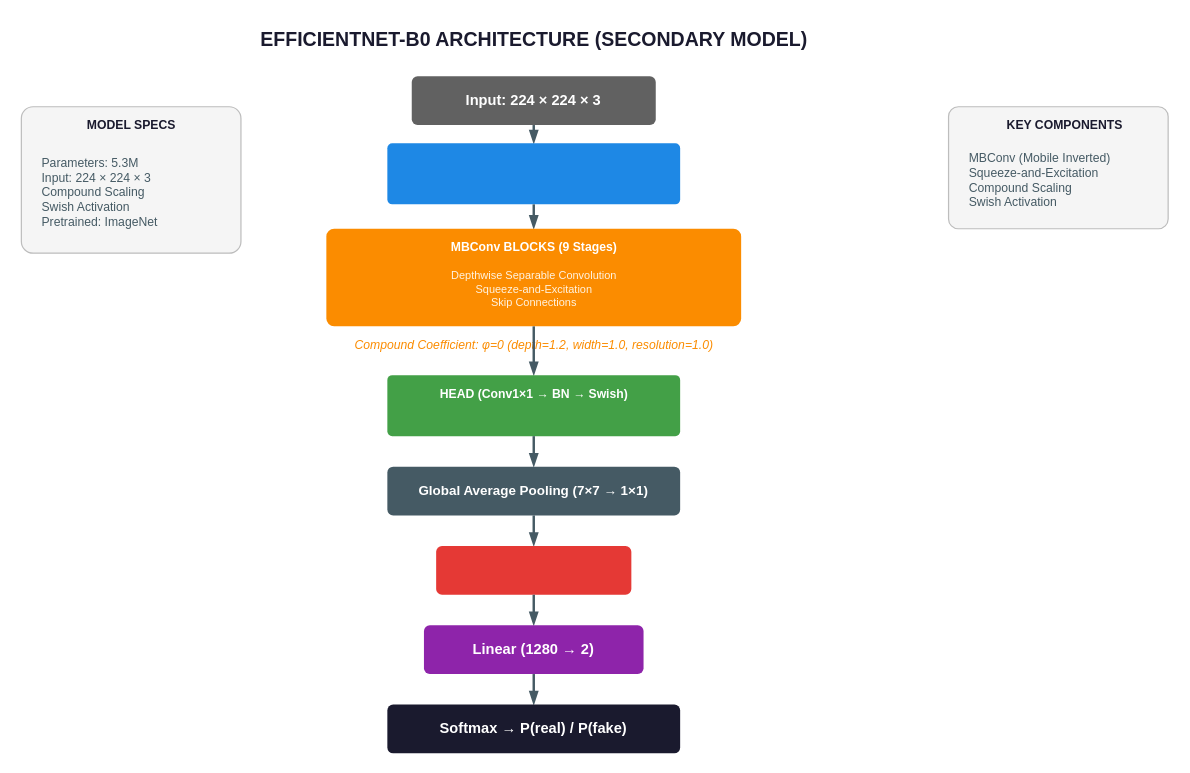
Some shapes in this 1190 by 773 pixel diagram are drawn without their labels. Each missing label, with the centre of its shape:
Dropout (0.5): (533,569)
STEM (Conv3×3/2 → BN → Swish): (533,173)
